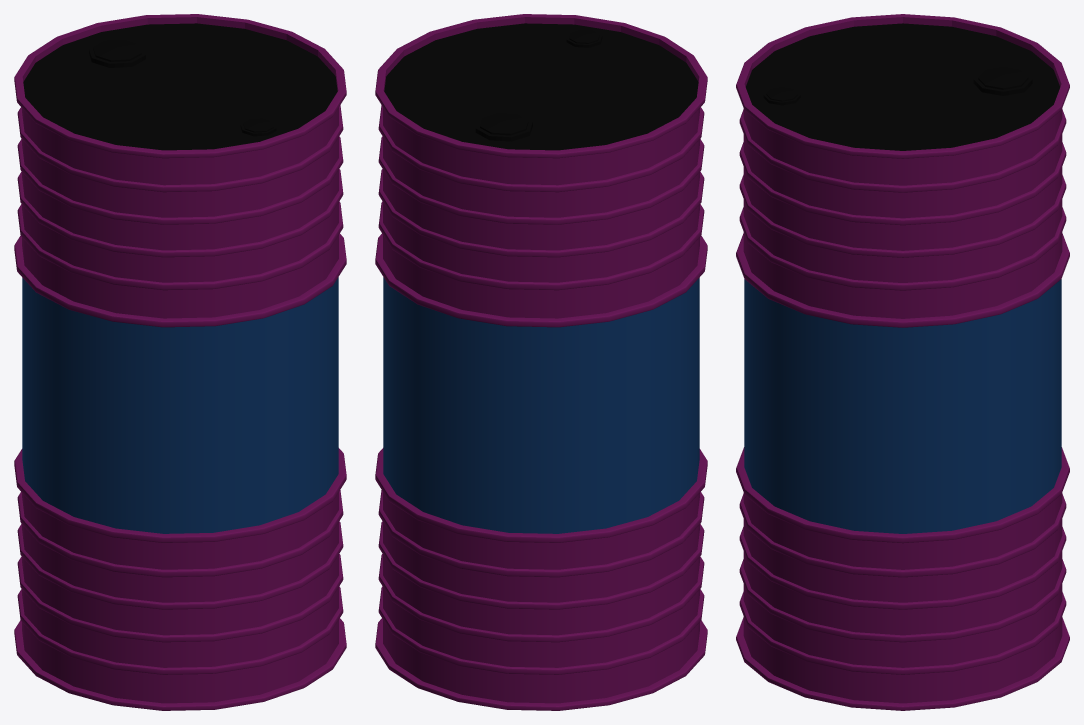
The model's file is staticMesh_prop_Barrel_UV.fbx.
3 renders of one model, left to right at view 1: azimuth 30°, elevation 25°; view 2: azimuth 150°, elevation 25°; view 3: azimuth 270°, elevation 25°, orthographic.
Visible parts, largest first — view 1: polySurface2; view 2: polySurface2; view 3: polySurface2.
Part boxes in pixels (x1,y1,x2,y2): polySurface2: (14,14,346,710); polySurface2: (375,14,707,710); polySurface2: (736,14,1069,710).
Bounding box in the file's own units: 99.27 × 183 × 99.27.
